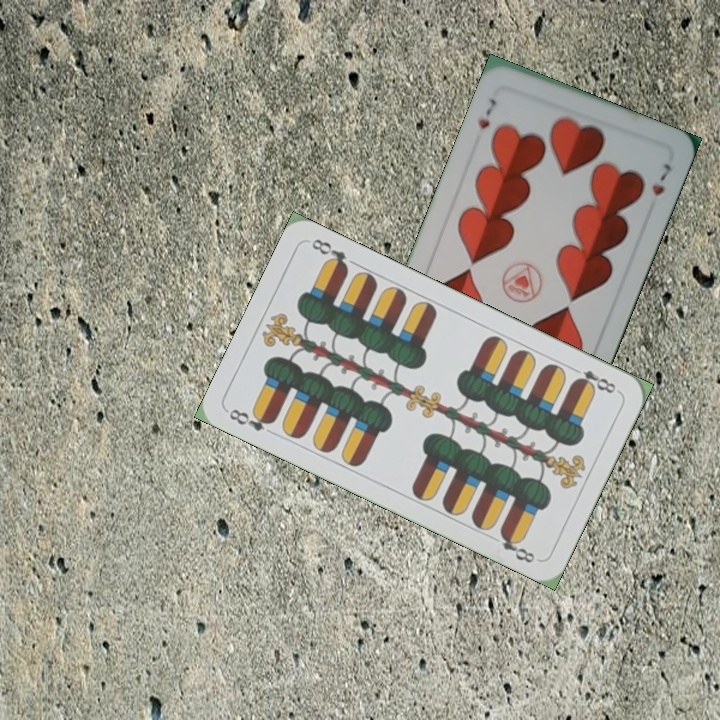E8: (566, 362, 622, 396), (225, 404, 278, 434)
H7: (474, 94, 500, 132)
